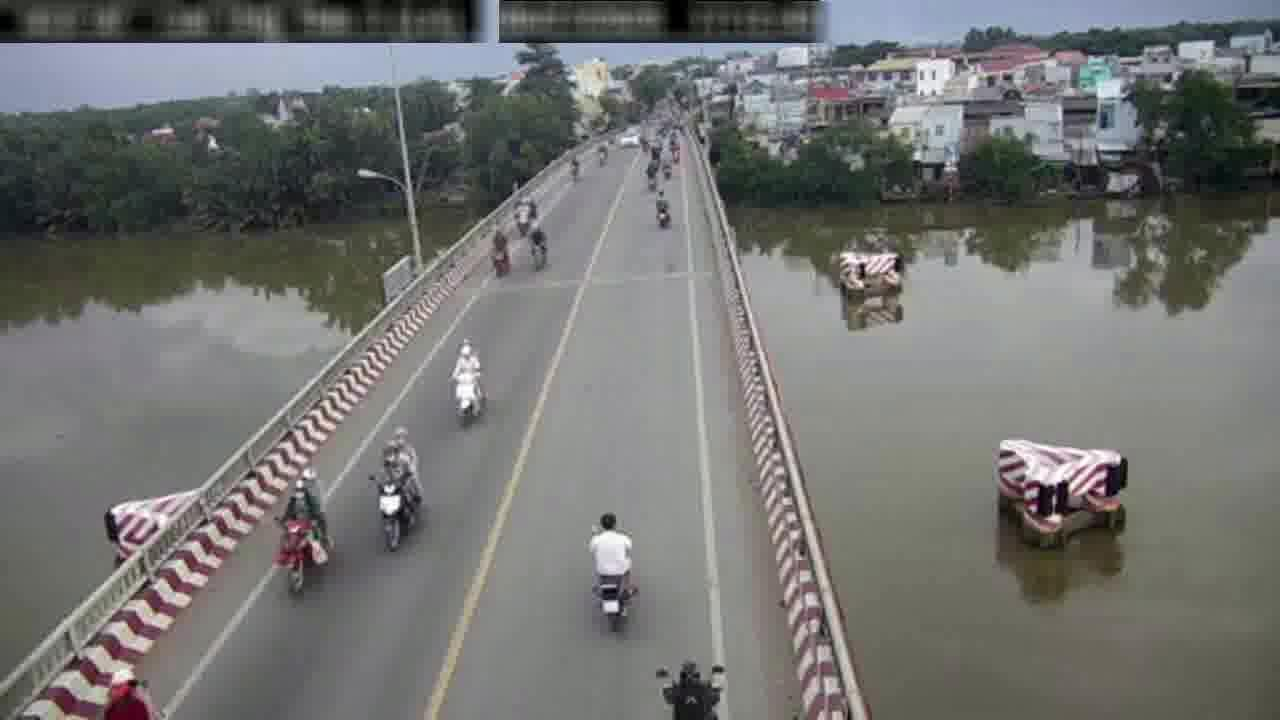motorbike: (271, 465, 326, 603), (588, 504, 636, 635), (371, 425, 415, 555), (448, 334, 481, 428), (486, 218, 510, 280), (512, 188, 534, 239), (529, 219, 549, 272), (652, 186, 669, 231)
